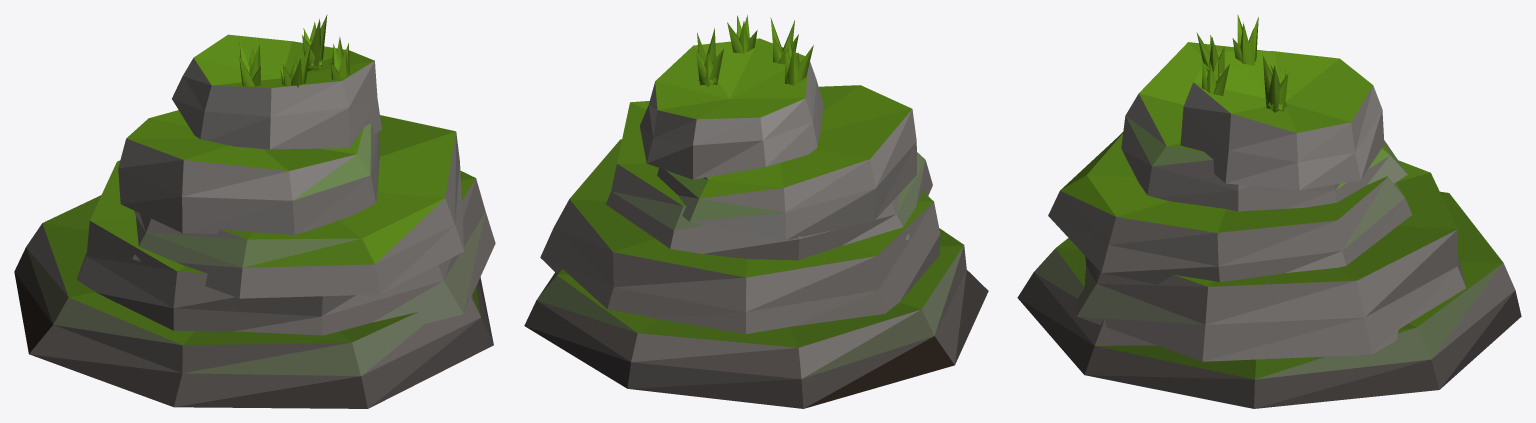
File: batu_slate_limestone_287930.glb
The picture shows the model from 3 angles, left to right: view 1: azimuth 30°, elevation 25°; view 2: azimuth 150°, elevation 25°; view 3: azimuth 270°, elevation 25°; orthographic projection. The views are drawn at different scales.
Visible parts, largest first — view 1: Batu_Pipih_Bertumpuk; view 2: Batu_Pipih_Bertumpuk; view 3: Batu_Pipih_Bertumpuk.
Part boxes in pixels (<box>): Batu_Pipih_Bertumpuk: <box>14,14,495,408</box>; Batu_Pipih_Bertumpuk: <box>524,15,988,408</box>; Batu_Pipih_Bertumpuk: <box>1017,14,1521,408</box>.
Bounding box in the file's own units: 4.94 × 3.12 × 5.08.
